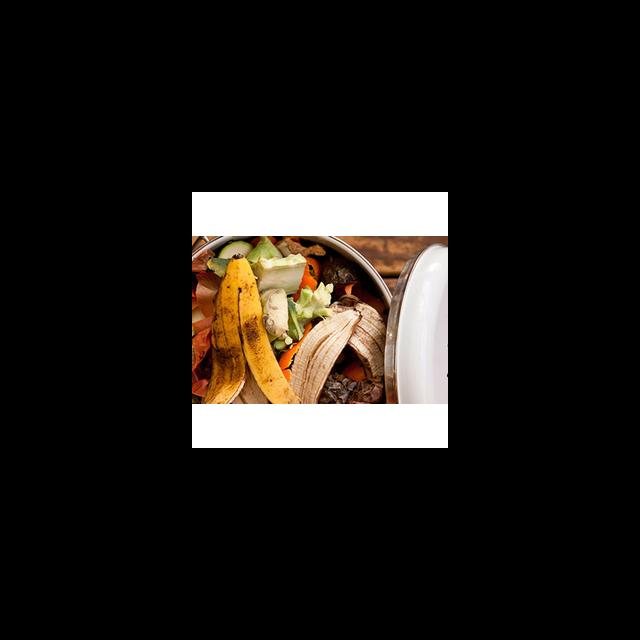food_waste: (195, 242, 383, 404)
